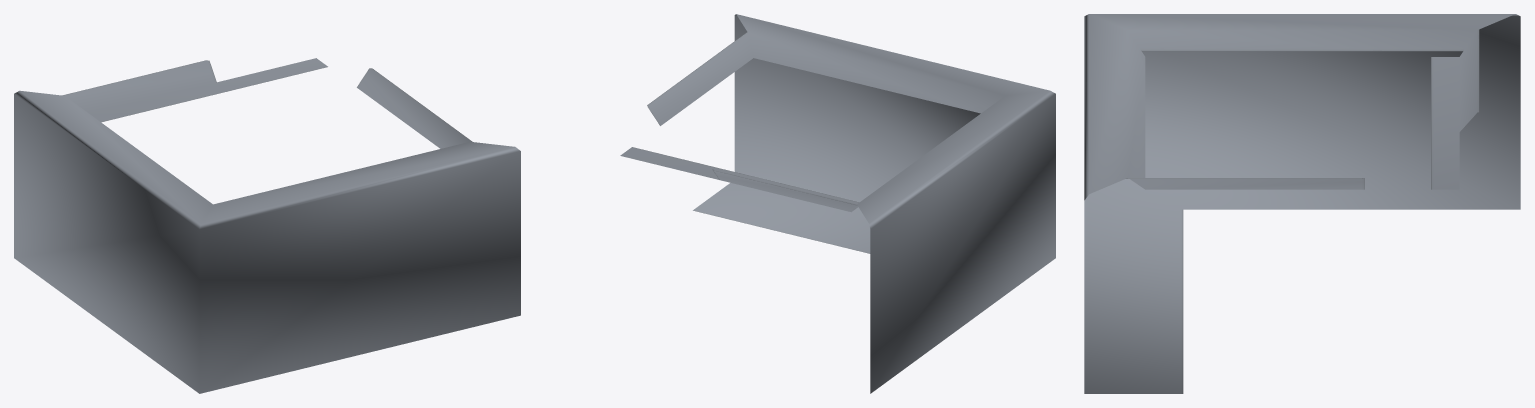
The model's file is Pogotile_3.fbx.
3 views of the same model, side by side, from view 1: azimuth 30°, elevation 25°; view 2: azimuth 150°, elevation 25°; view 3: azimuth 270°, elevation 25° (orthographic). The views are drawn at different scales.
Visible parts, largest first — view 1: PogoTile3_lp.001; view 2: PogoTile3_lp.001; view 3: PogoTile3_lp.001.
Part boxes in pixels (bbox=[...]): PogoTile3_lp.001: bbox=[14, 58, 520, 393]; PogoTile3_lp.001: bbox=[620, 14, 1055, 393]; PogoTile3_lp.001: bbox=[1084, 14, 1520, 393].
Bounding box in the file's own units: 100 × 50 × 100.
